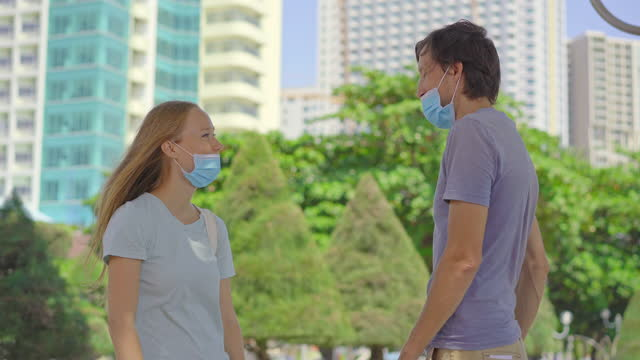with_incorrect_mask: (182, 110, 222, 183), (417, 54, 460, 119)
